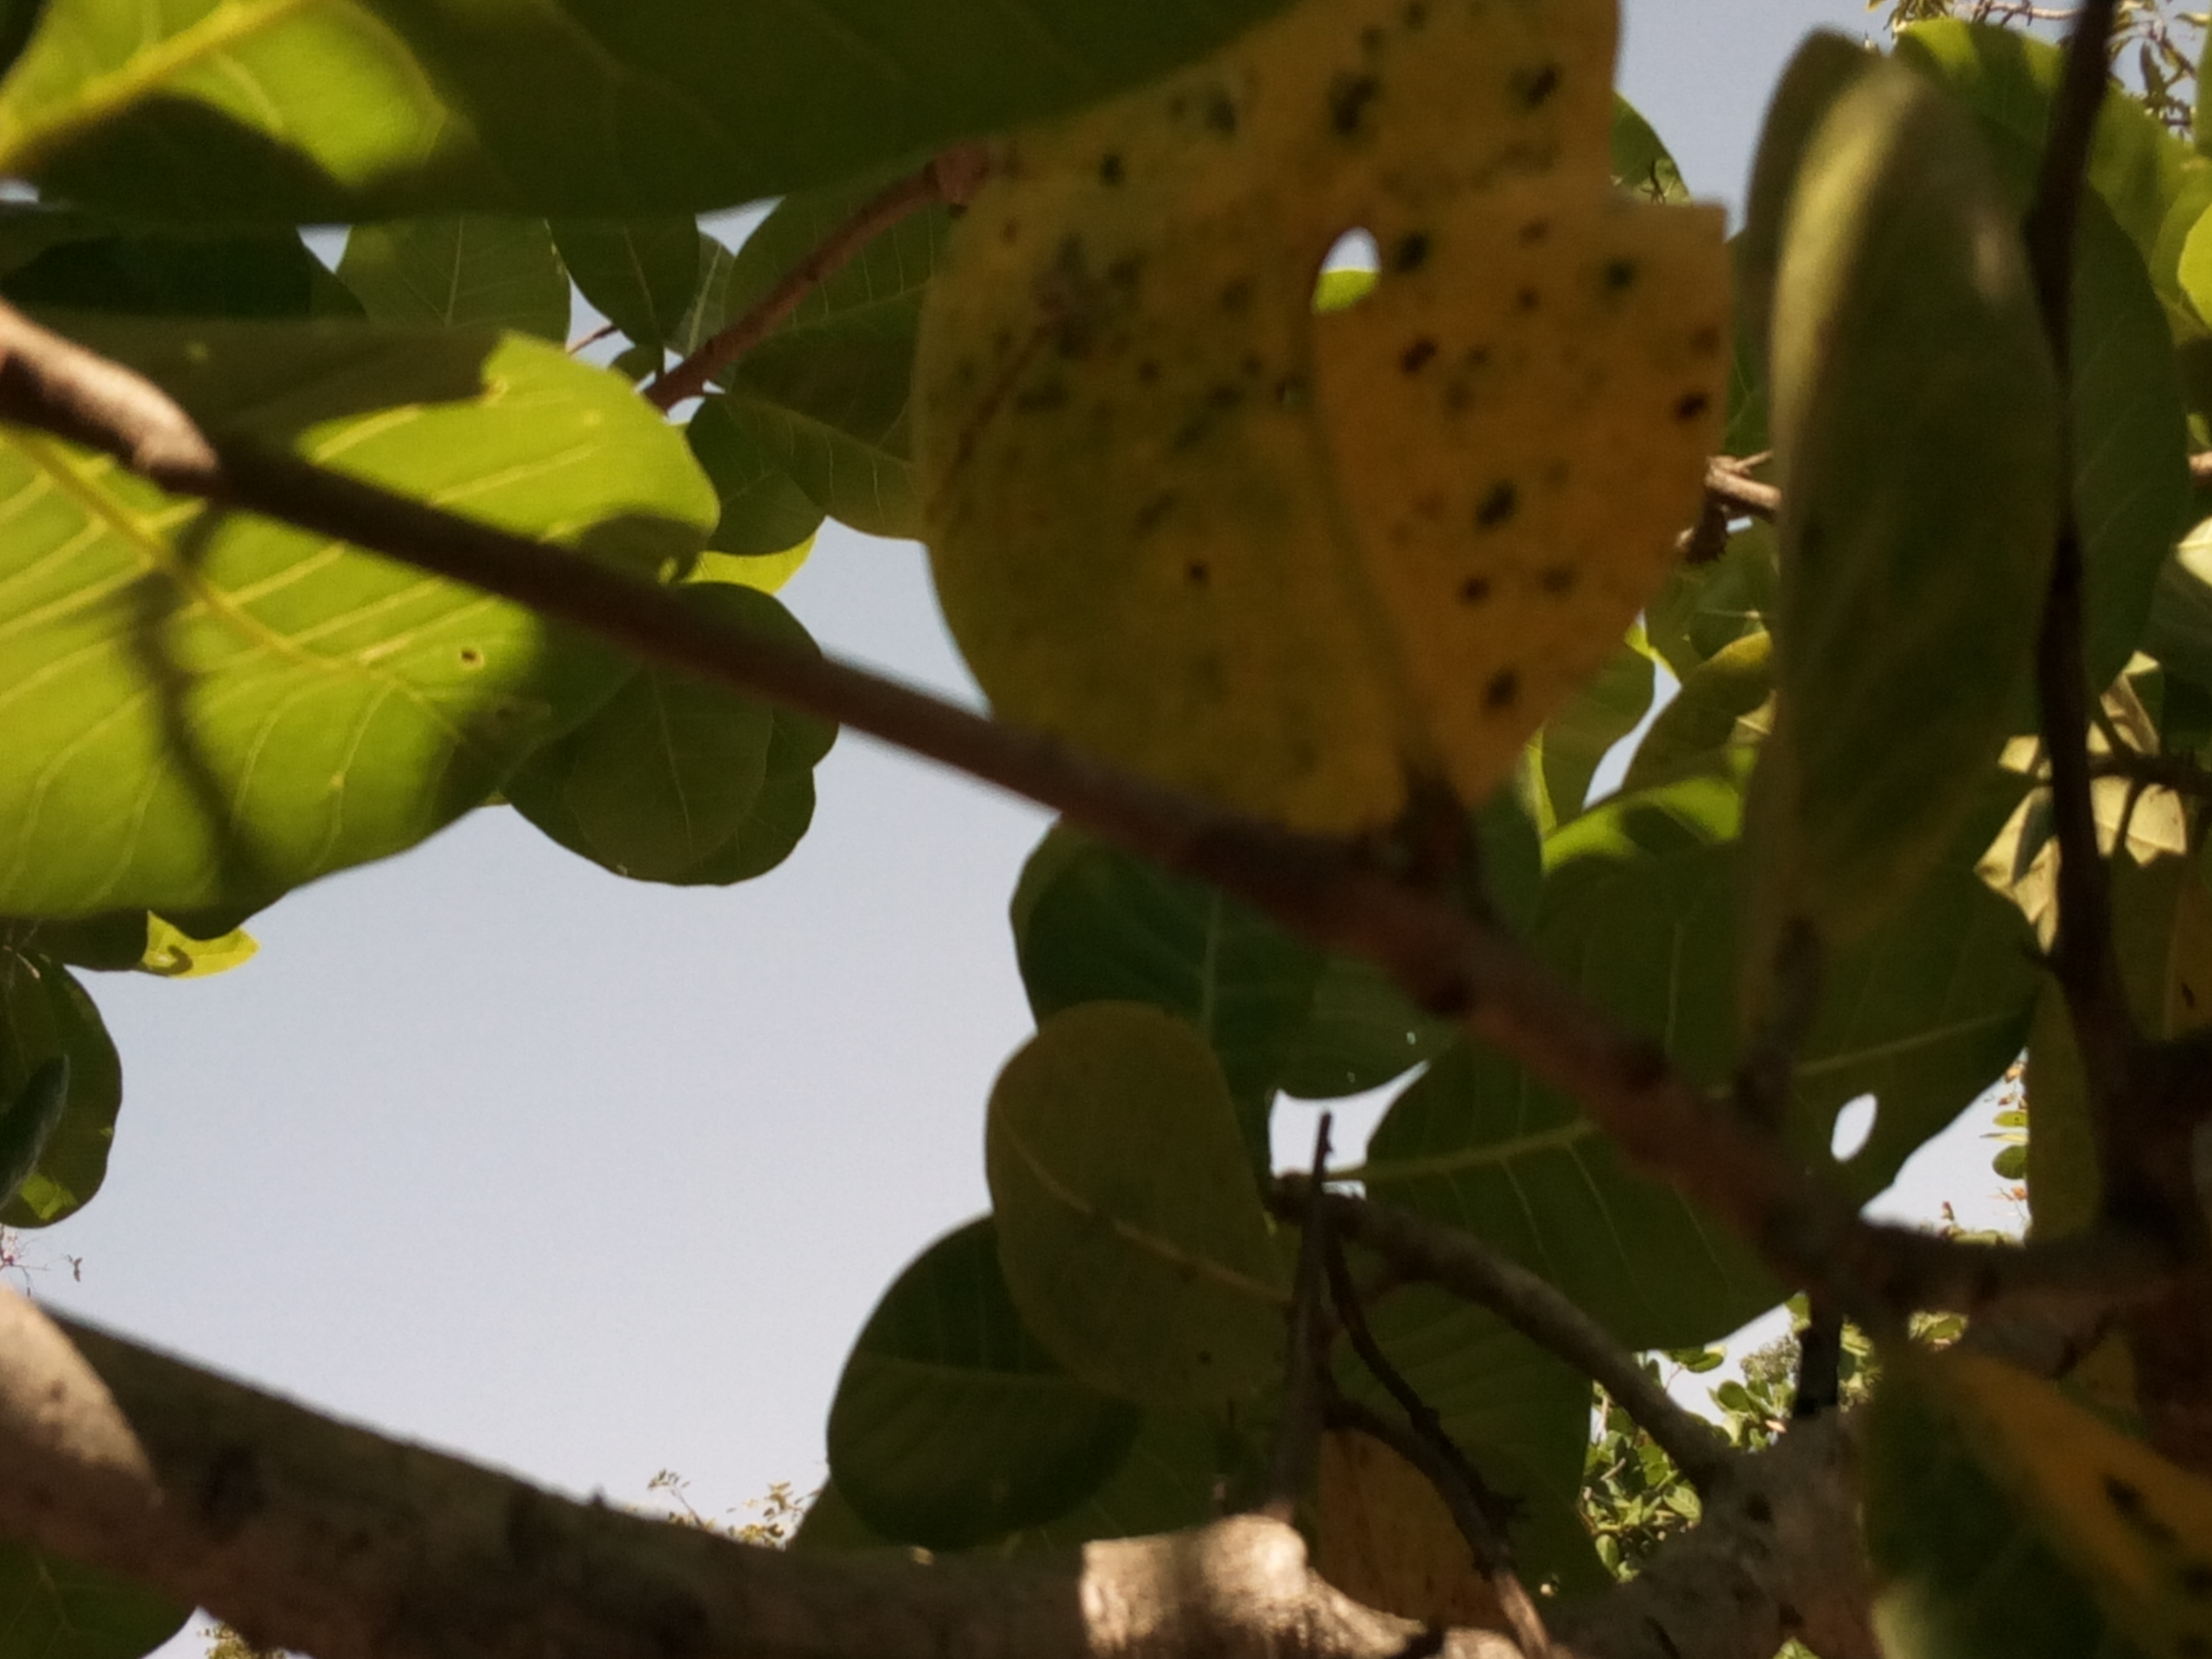Bactériose: (895, 7, 1723, 809)
